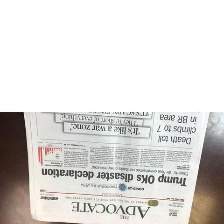news_paper: (22, 112, 210, 224)
